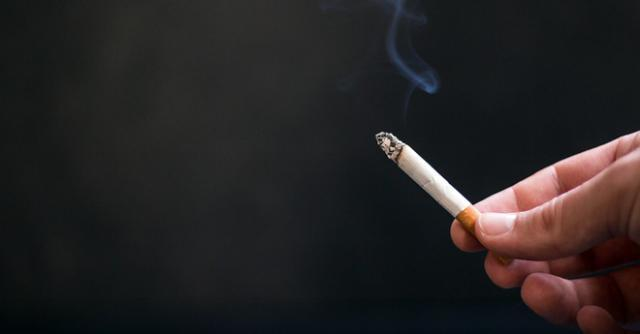Smoking: (375, 132, 513, 266)
